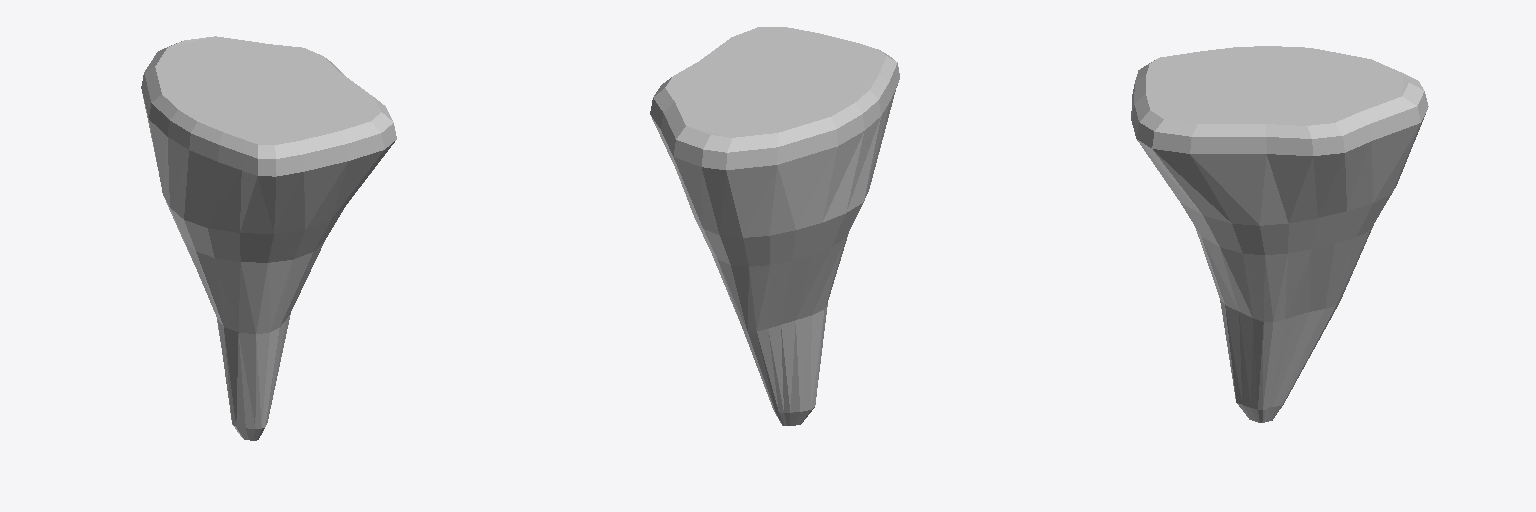
File: FloatingIsland1.obj
3 views of the same model, side by side, from view 1: azimuth 30°, elevation 25°; view 2: azimuth 150°, elevation 25°; view 3: azimuth 270°, elevation 25° (orthographic).
Parts seen in each view (by area): view 1: Cylinder; view 2: Cylinder; view 3: Cylinder.
Boxes of the visible parts, box(x1,y1,x2,y2) form: Cylinder: box(141, 36, 396, 440); Cylinder: box(650, 27, 899, 425); Cylinder: box(1131, 46, 1428, 422).
Bounding box in the file's own units: 4.65 × 8.17 × 6.47.